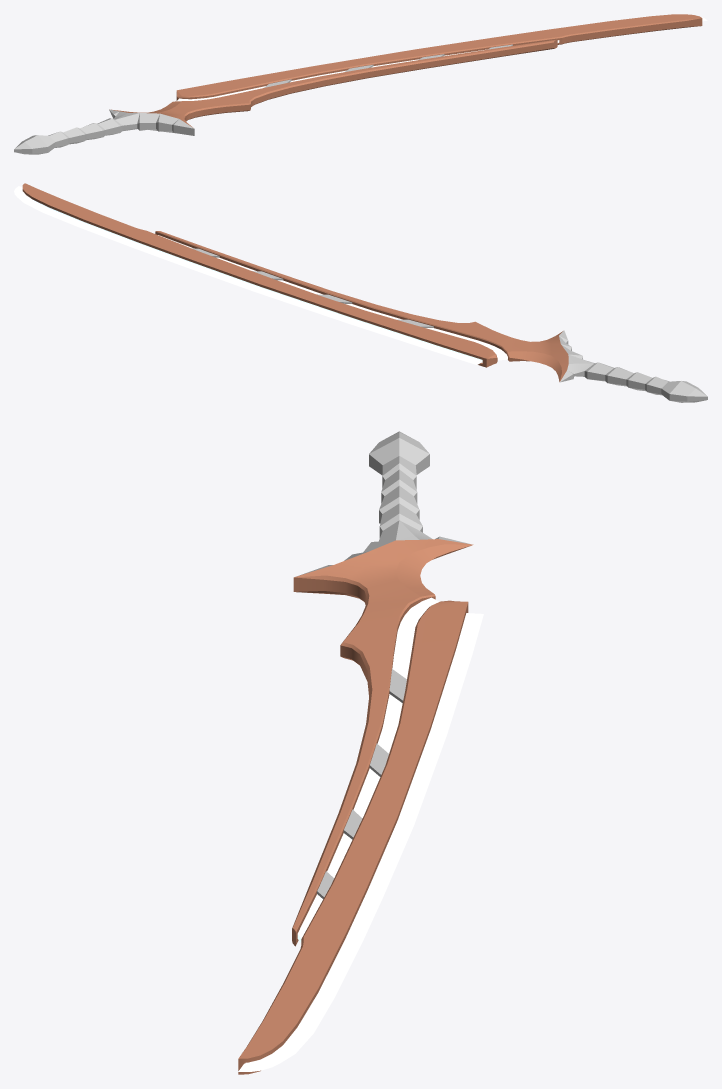
The model's file is weap1_sword.fbx.
3 renders of one model, top to bottom at view 1: azimuth 30°, elevation 25°; view 2: azimuth 150°, elevation 25°; view 3: azimuth 270°, elevation 25°, orthographic. The views are drawn at different scales.
Parts seen in each view (by area): view 1: weap1_sword; view 2: weap1_sword; view 3: weap1_sword.
Part boxes in pixels (x1,y1,x2,y2): weap1_sword: (14, 14, 707, 154); weap1_sword: (14, 183, 707, 402); weap1_sword: (238, 431, 483, 1074).
Bounding box in the file's own units: 127 × 3.65 × 20.67.
